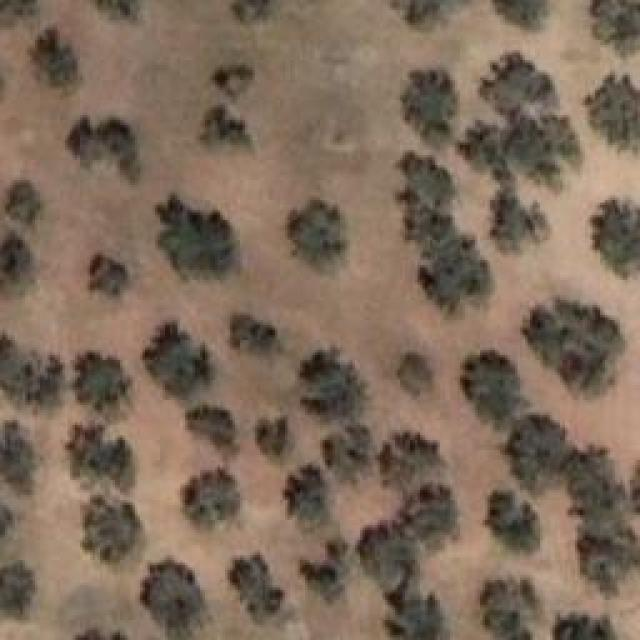Tree: (463, 53, 590, 194), (525, 297, 618, 394), (160, 193, 245, 286), (143, 323, 209, 399), (295, 355, 369, 419), (428, 240, 493, 312), (3, 340, 66, 414), (143, 565, 207, 637), (460, 350, 524, 422), (582, 75, 640, 153), (230, 552, 292, 623), (560, 450, 622, 521), (70, 425, 138, 489), (580, 520, 640, 592), (83, 495, 148, 561), (285, 203, 351, 268), (65, 110, 138, 168), (300, 530, 363, 597), (400, 70, 458, 140), (477, 577, 540, 640), (75, 353, 137, 417), (515, 420, 576, 485), (390, 575, 450, 640), (485, 488, 545, 551), (488, 190, 552, 249), (592, 203, 640, 278), (30, 33, 82, 99), (410, 485, 462, 551), (358, 520, 418, 577), (0, 423, 42, 503), (375, 435, 436, 490), (185, 470, 242, 528), (398, 153, 461, 203), (0, 233, 44, 302), (288, 475, 331, 536), (203, 103, 253, 155), (228, 313, 281, 362), (595, 0, 640, 55), (328, 425, 377, 473), (403, 208, 462, 246), (0, 558, 36, 619), (8, 175, 46, 229), (390, 0, 460, 29), (188, 405, 232, 451), (87, 258, 134, 299), (400, 358, 439, 401), (227, 0, 277, 33), (500, 0, 553, 30), (558, 610, 611, 640), (255, 412, 289, 457), (98, 0, 147, 30), (215, 65, 250, 102)
